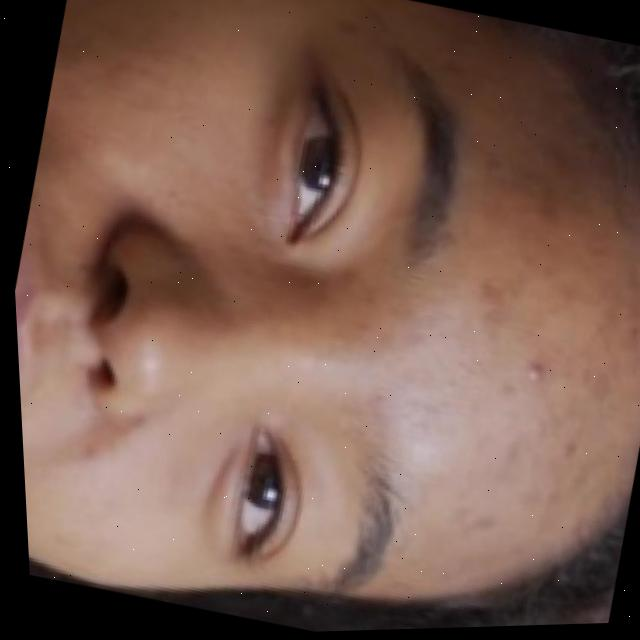Acne: (455, 251, 607, 445)
